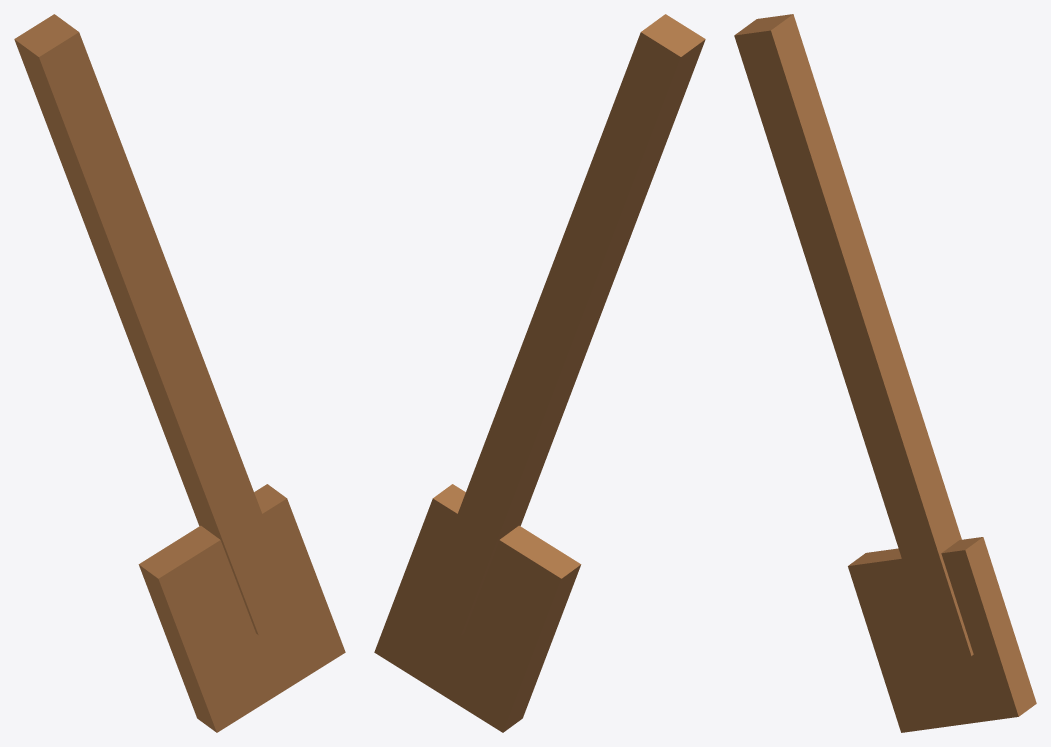
File: Spin_Salca.fbx
The picture shows the model from 3 angles, left to right: view 1: azimuth 30°, elevation 25°; view 2: azimuth 150°, elevation 25°; view 3: azimuth 330°, elevation 25°; orthographic projection. The views are drawn at different scales.
Parts seen in each view (by area): view 1: Spin_Salca; view 2: Spin_Salca; view 3: Spin_Salca.
Part boxes in pixels (x1,y1,x2,y2): Spin_Salca: [14, 14, 345, 732]; Spin_Salca: [374, 14, 705, 732]; Spin_Salca: [734, 14, 1036, 732].
Bounding box in the file's own units: 36.11 × 82.23 × 5.
